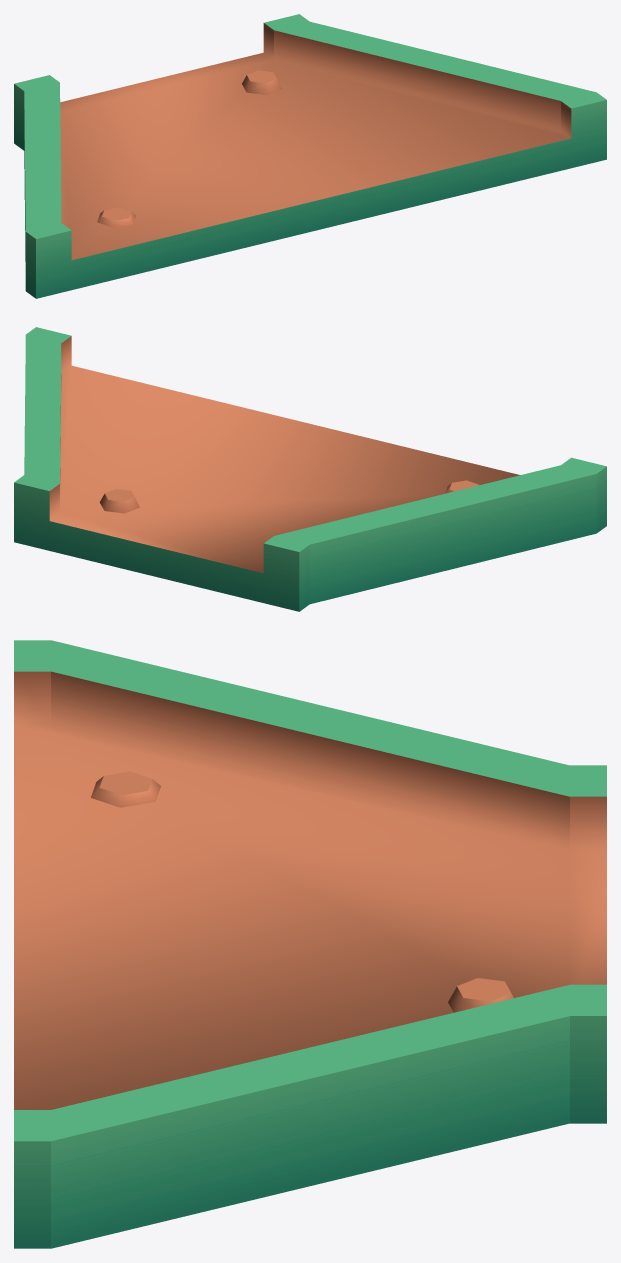
The model's file is kenney-tower-defense-tile-wide.glb.
3 renders of one model, top to bottom at view 1: azimuth 30°, elevation 25°; view 2: azimuth 150°, elevation 25°; view 3: azimuth 270°, elevation 25°, orthographic. The views are drawn at different scales.
Parts seen in each view (by area): view 1: tile-wide-transition; view 2: tile-wide-transition; view 3: tile-wide-transition.
Boxes of the visible parts, x1,y1,x2,y2 form: tile-wide-transition: (14, 14, 606, 298); tile-wide-transition: (14, 327, 606, 611); tile-wide-transition: (14, 640, 606, 1248).
Bounding box in the file's own units: 2 × 0.2 × 1.
1 material, 1 textured.
